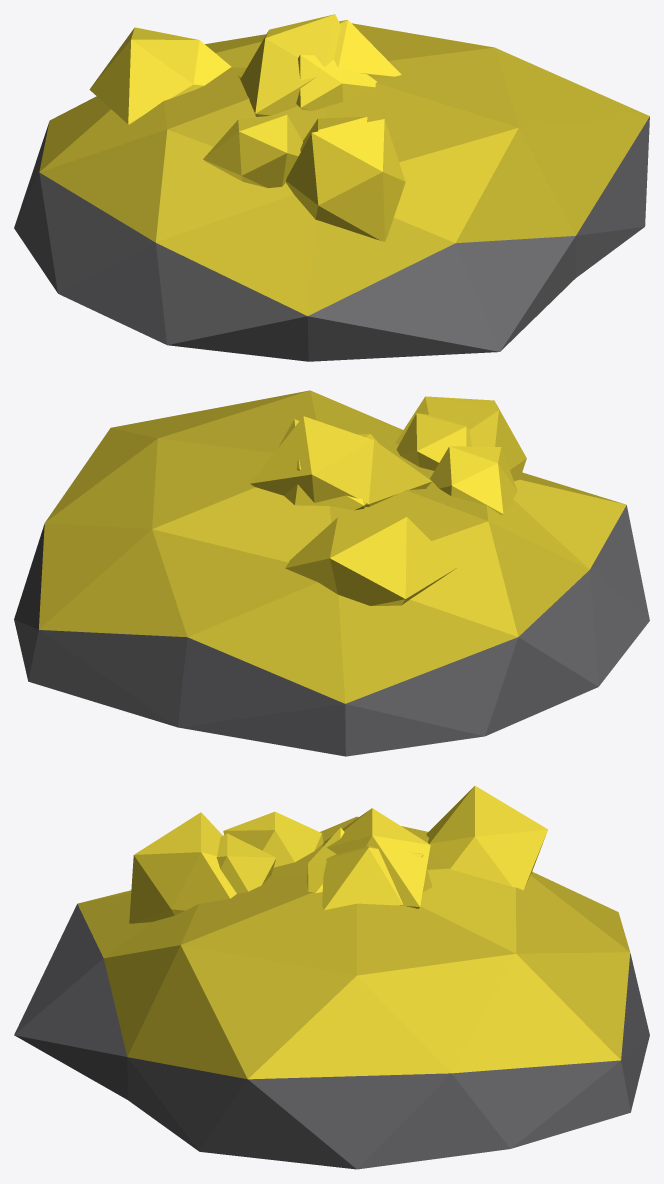
File: sulfur_b.obj
The picture shows the model from 3 angles, top to bottom: view 1: azimuth 30°, elevation 25°; view 2: azimuth 150°, elevation 25°; view 3: azimuth 270°, elevation 25°; orthographic projection.
Bounding box in the file's own units: 0.9576 × 0.3435 × 0.9605.
